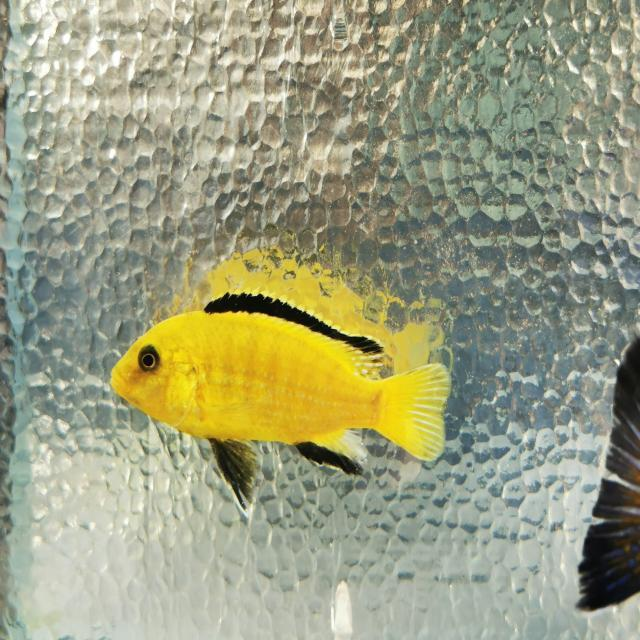YellowCichlid: (100, 283, 458, 484)
